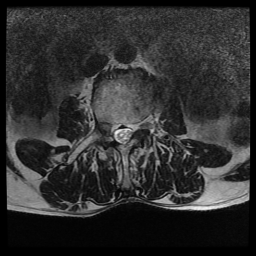CCS_normal: (118, 115, 126, 151)
LFS_normal: (134, 112, 143, 138)
LLS_normal: (126, 114, 134, 145)
RFS_normal: (103, 114, 111, 139)
RLS_normal: (111, 114, 118, 147)
